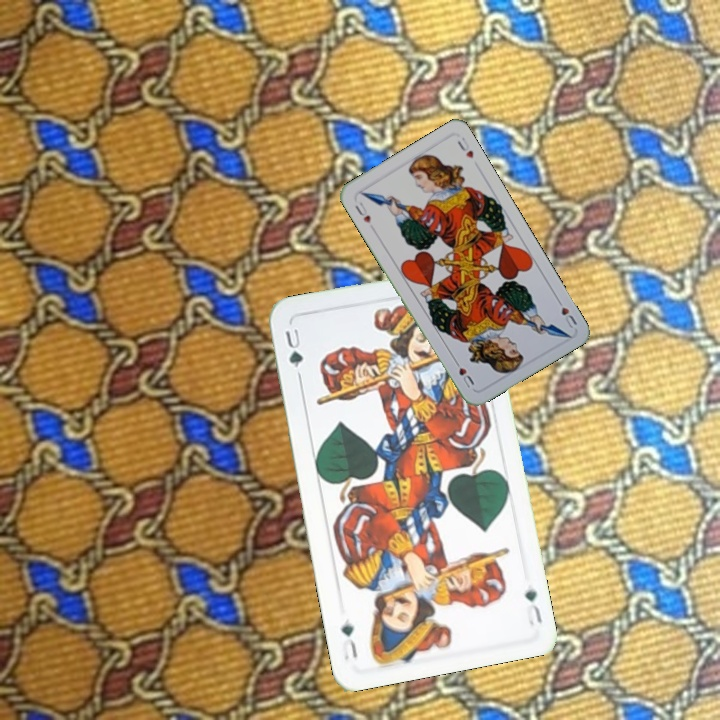GU: (281, 324, 306, 371), (520, 585, 545, 628)
HU: (552, 294, 580, 331), (351, 198, 373, 226)
